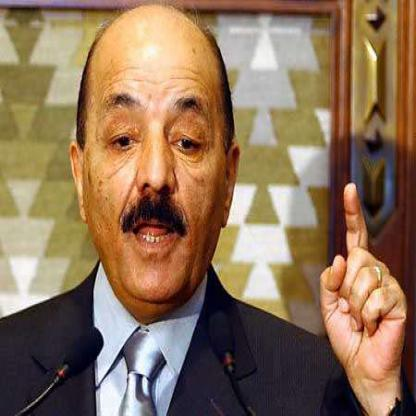face: (81, 6, 233, 308)
